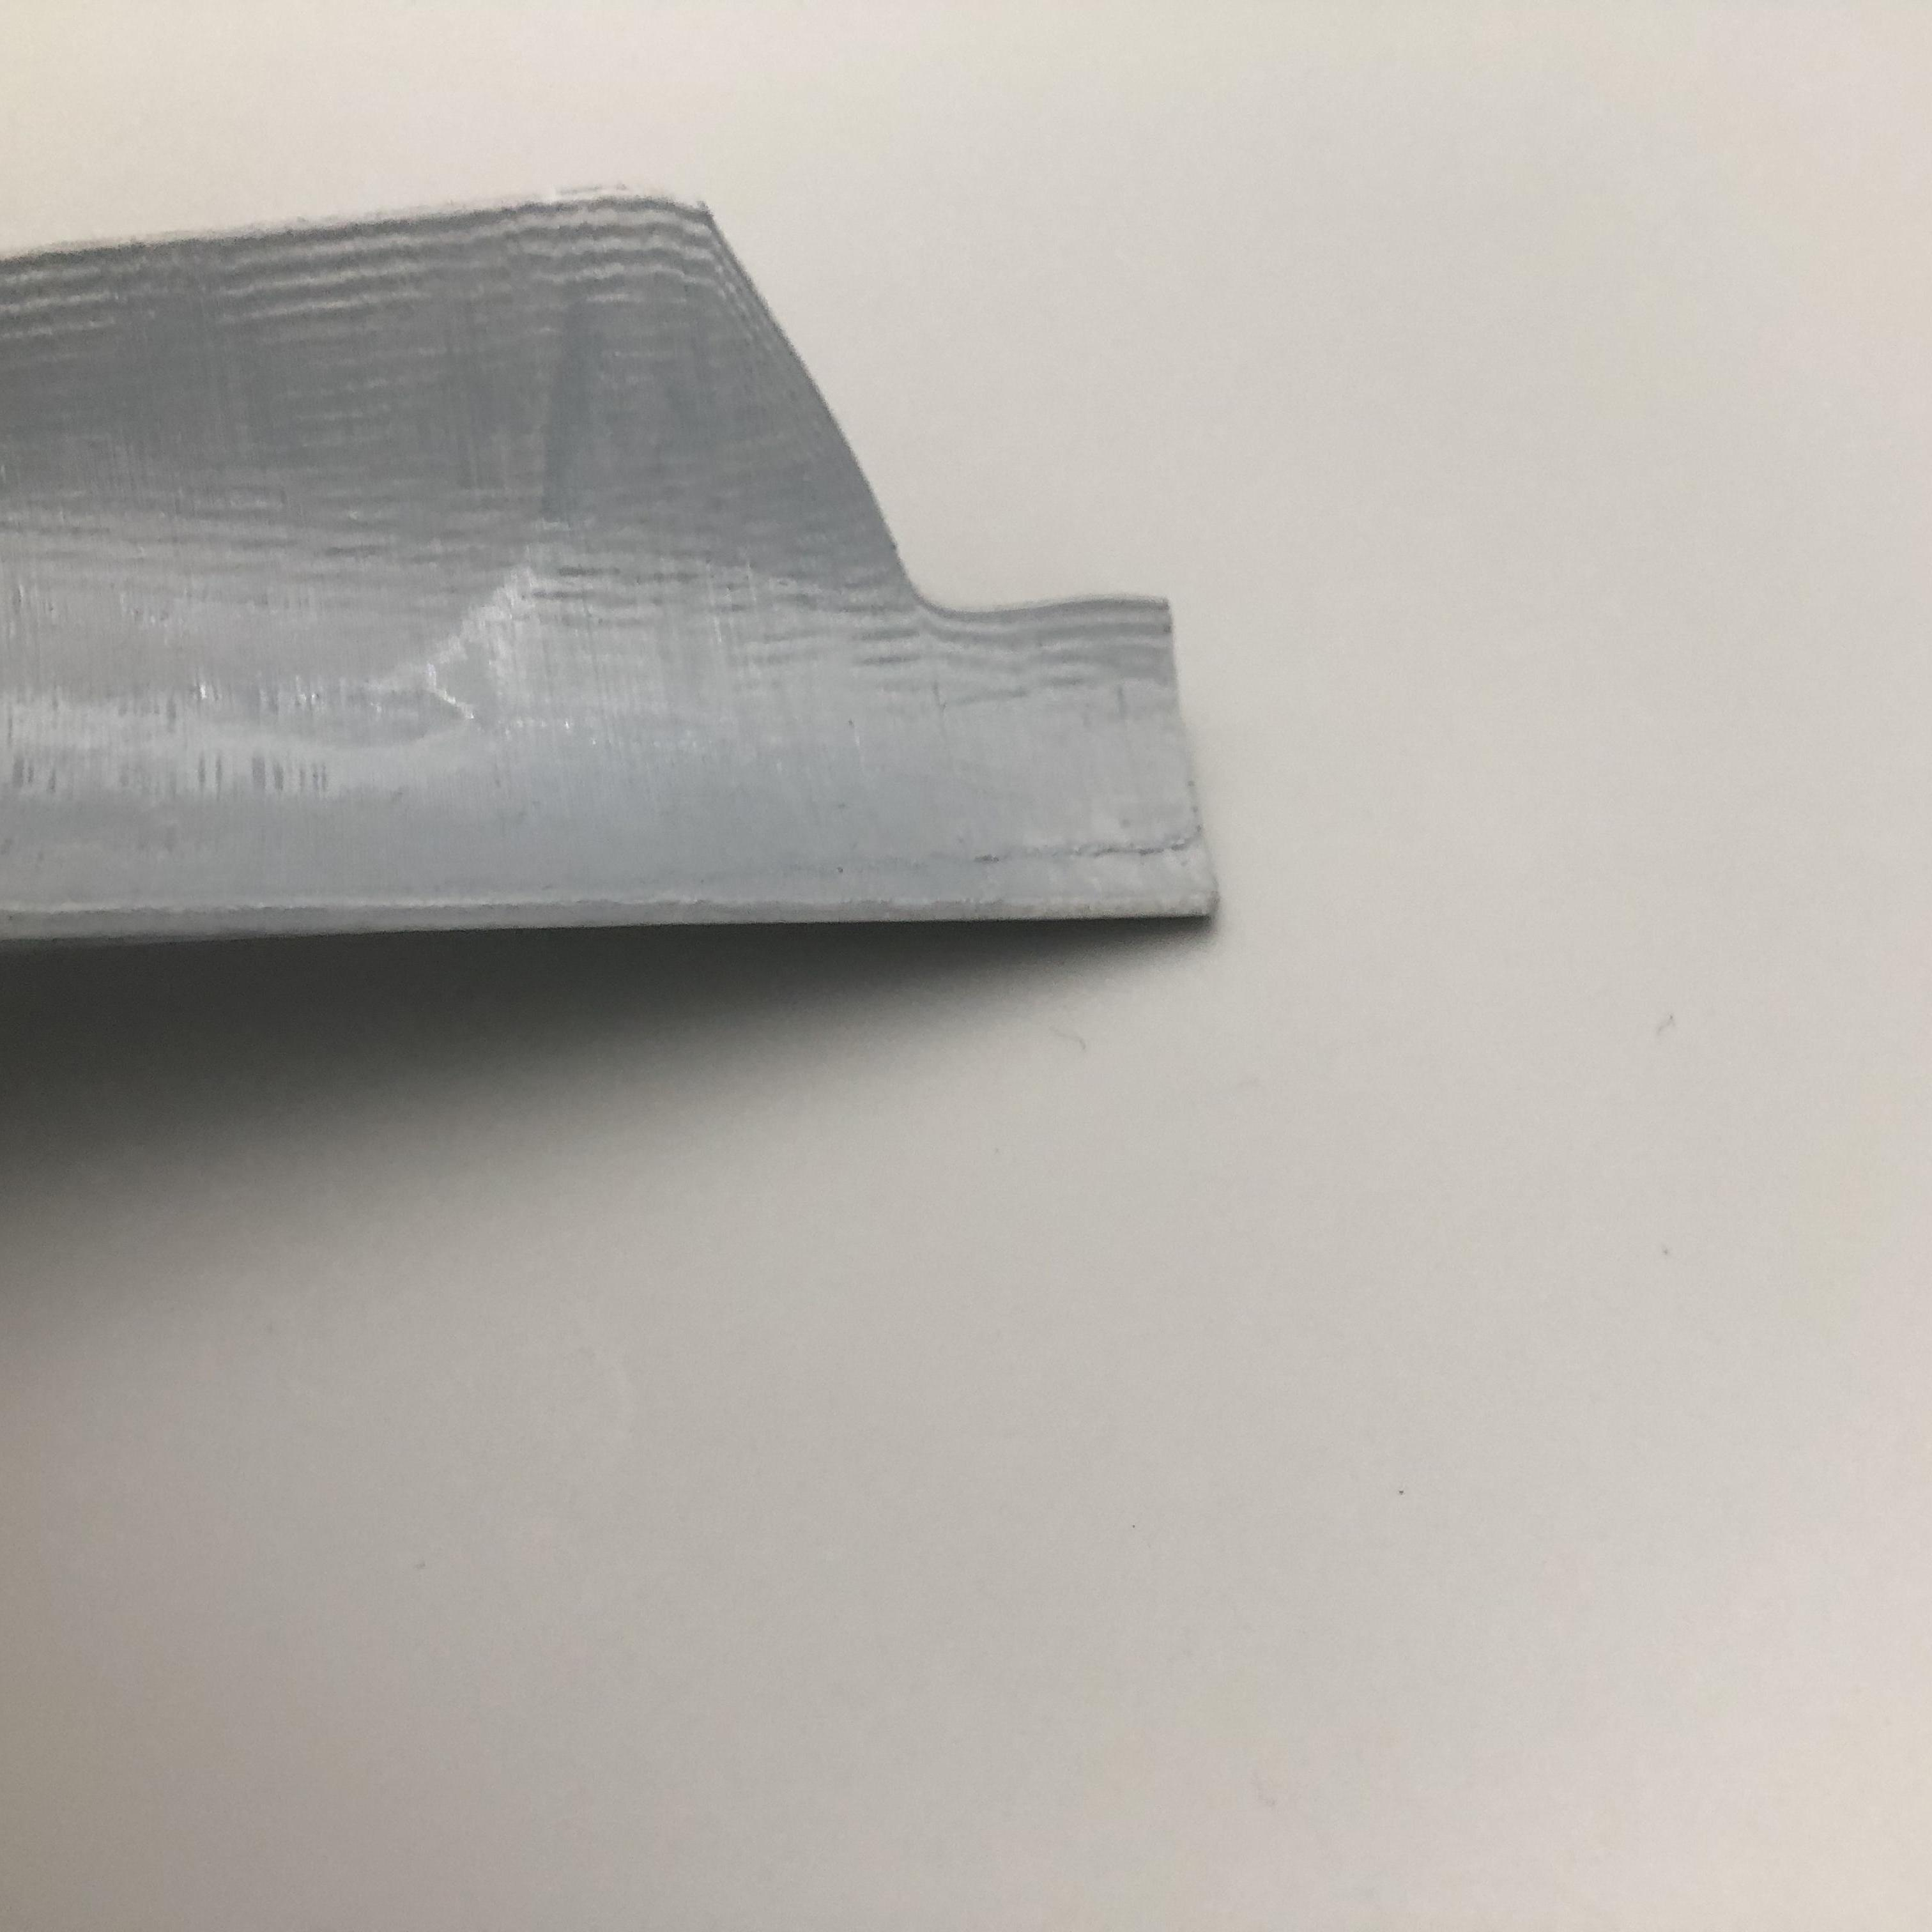fracture: (681, 218, 1205, 640)
